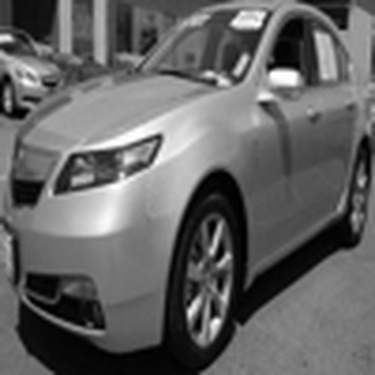car: (1, 1, 372, 373), (5, 15, 69, 131)
